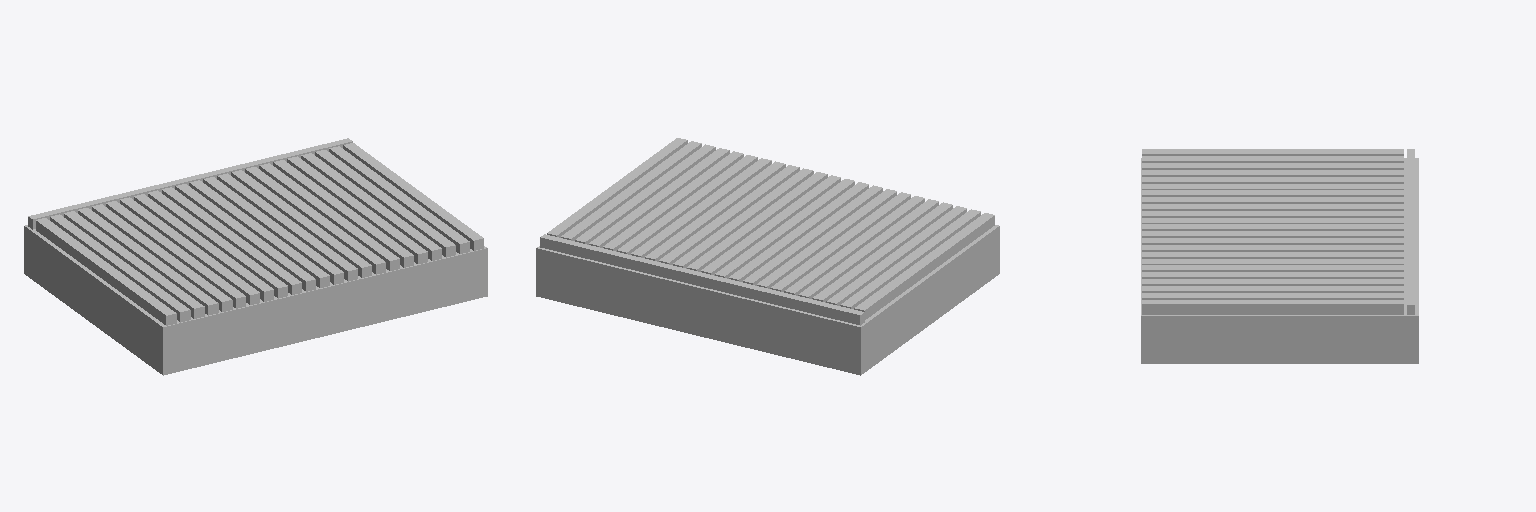
The model's file is plitka.obj.
The picture shows the model from 3 angles: view 1: azimuth 30°, elevation 25°; view 2: azimuth 150°, elevation 25°; view 3: azimuth 270°, elevation 25°; orthographic projection.
Parts seen in each view (by area): view 1: Cube.001, Cube, Cube.002; view 2: Cube.001, Cube, Cube.002; view 3: Cube.001, Cube, Cube.002.
Part boxes in pixels (x1,y1,x2,y2): Cube.001: (36,143,483,325); Cube: (24,225,487,375); Cube.002: (28,138,352,229); Cube.001: (547,138,994,319); Cube: (536,225,999,375); Cube.002: (540,234,864,325); Cube.001: (1142,149,1403,314); Cube: (1141,158,1418,363); Cube.002: (1407,149,1414,314).
Size of the model in its own units: 0.7896 by 0.1358 by 0.585.